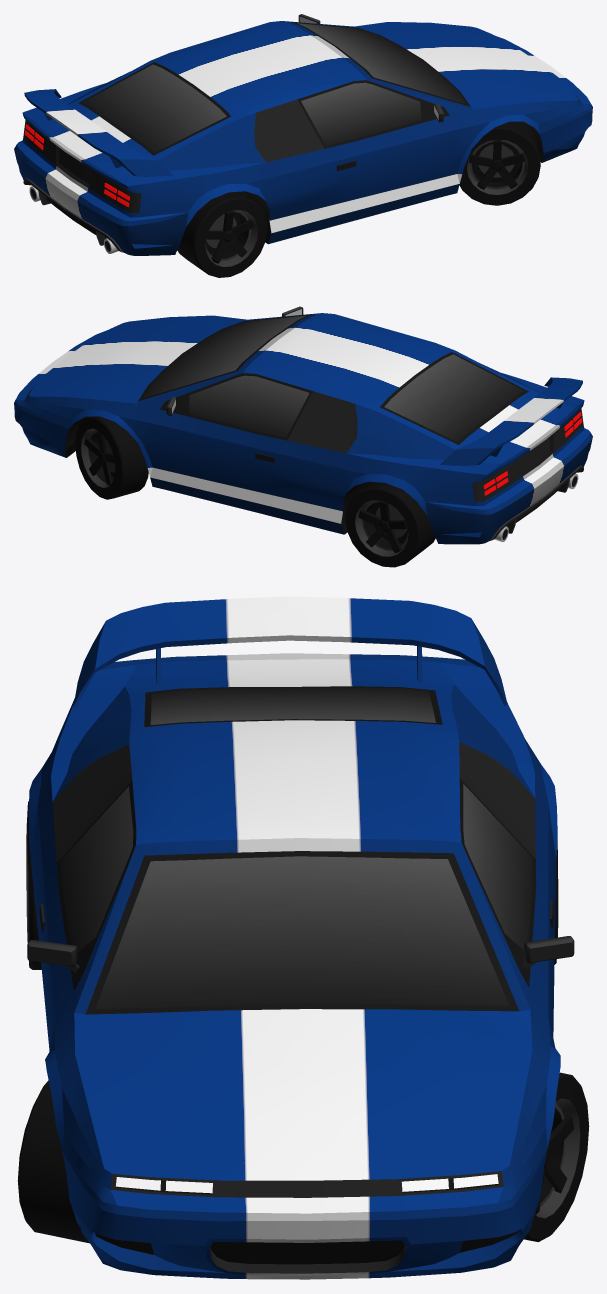
Rendered from Car_184.glb.
3 renders of one model, top to bottom at view 1: azimuth 30°, elevation 25°; view 2: azimuth 150°, elevation 25°; view 3: azimuth 270°, elevation 25°, orthographic. The views are drawn at different scales.
Visible parts, largest first — view 1: Car_184, wheel_2_Car_184_Wheel_3R, wheel_0_Car_184_Wheel_1R; view 2: Car_184, wheel_3_Car_184_Wheel_4L, wheel_1_Car_184_Wheel_2L; view 3: Car_184, wheel_0_Car_184_Wheel_1R, wheel_1_Car_184_Wheel_2L, wheel_2_Car_184_Wheel_3R.
Boxes of the visible parts, x1,y1,x2,y2 form: Car_184: (14,14,592,255); wheel_2_Car_184_Wheel_3R: (177,191,267,277); wheel_0_Car_184_Wheel_1R: (459,121,540,205); Car_184: (14,306,592,544); wheel_3_Car_184_Wheel_4L: (345,482,435,567); wheel_1_Car_184_Wheel_2L: (75,416,148,499); Car_184: (27,596,574,1279); wheel_0_Car_184_Wheel_1R: (17,1080,89,1243); wheel_1_Car_184_Wheel_2L: (524,1072,589,1241); wheel_2_Car_184_Wheel_3R: (26,801,41,969).
Bounding box in the file's own units: 4.29 × 1.19 × 2.15.
Materials: 3 (3 with a texture image).
